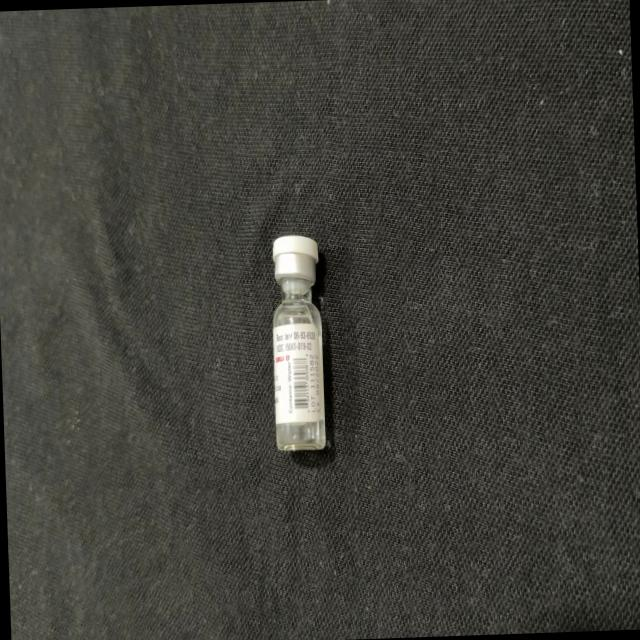fentanl_citrat: (270, 238, 326, 448)
